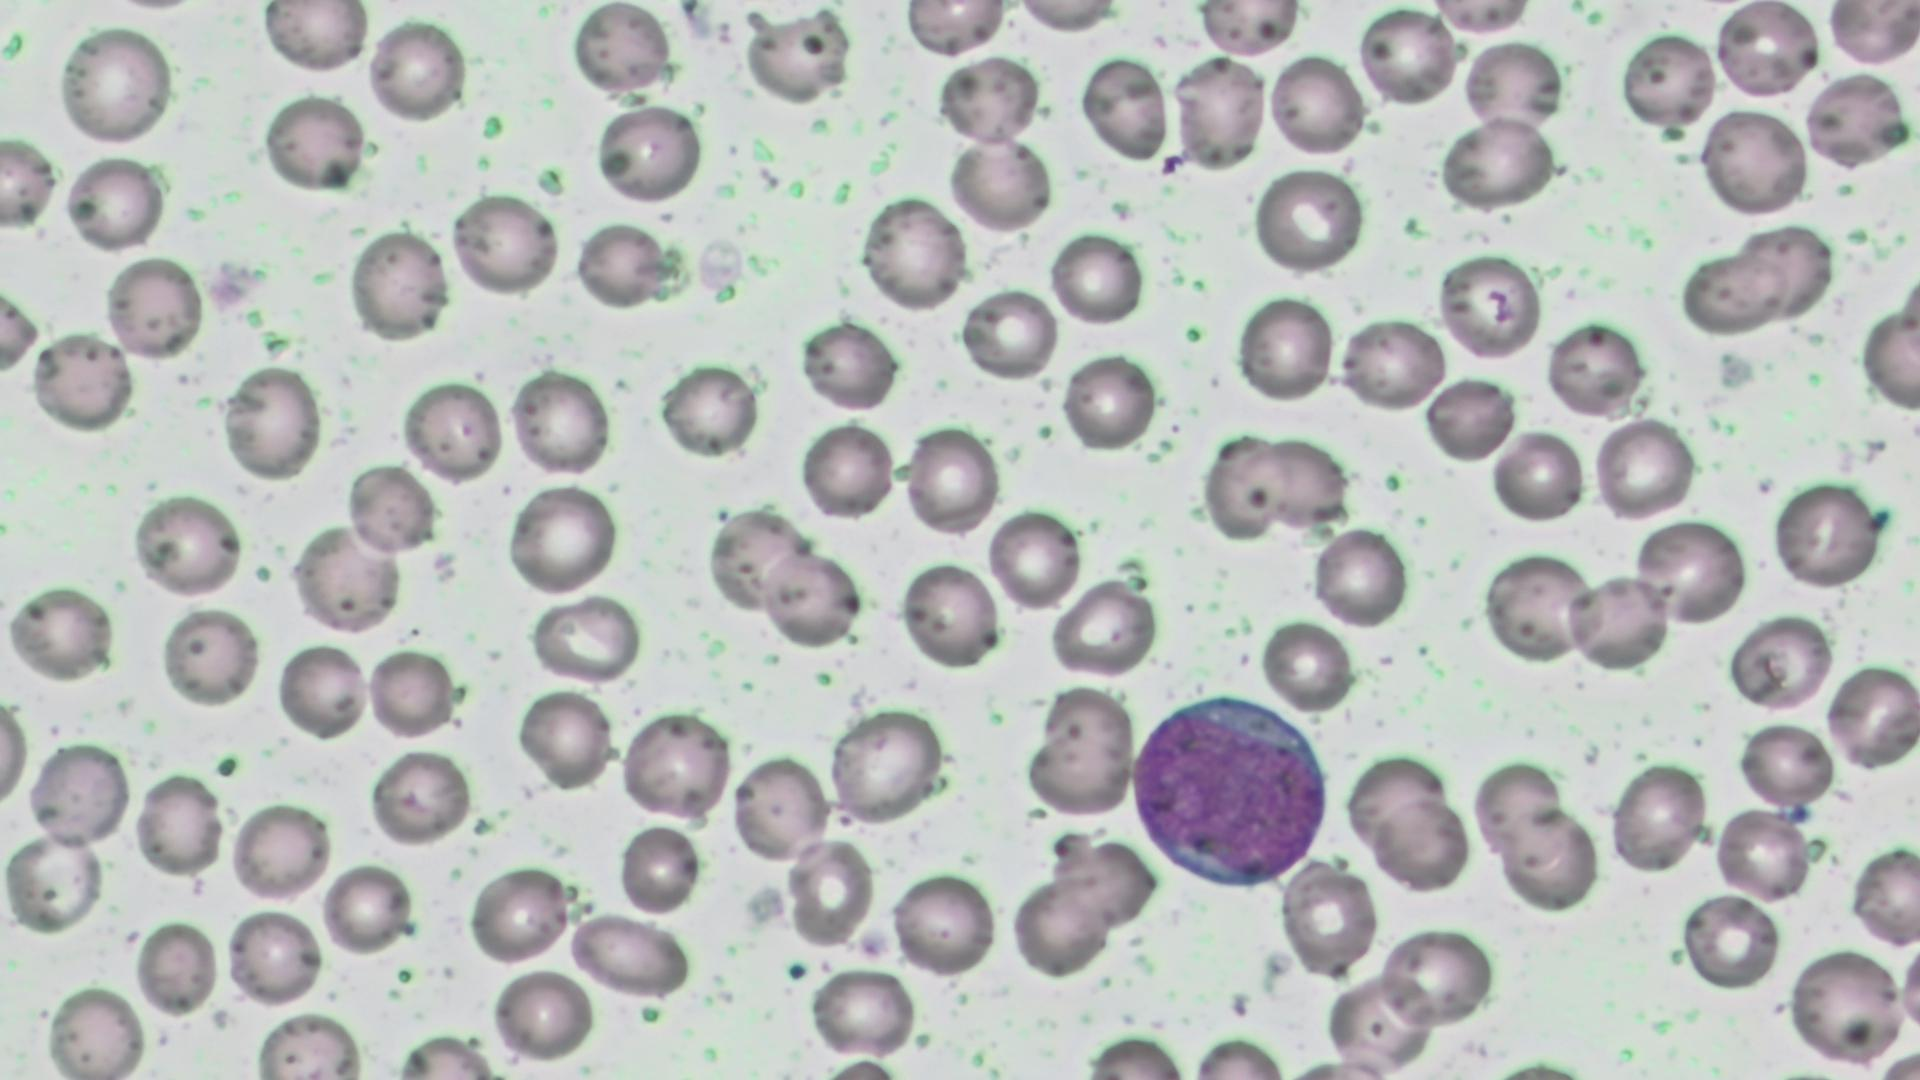Platelets: (742, 884, 793, 928), (855, 926, 895, 964), (258, 327, 295, 363), (212, 752, 243, 781), (1785, 803, 1815, 825)
RBC: (55, 20, 174, 152), (1785, 944, 1905, 1065), (620, 704, 733, 825), (858, 191, 971, 313), (829, 705, 943, 824), (218, 359, 324, 484), (1633, 514, 1749, 629), (1770, 476, 1884, 592), (504, 483, 620, 597), (1698, 104, 1812, 220), (887, 865, 1000, 982), (1480, 549, 1592, 663), (1250, 164, 1366, 274), (1435, 247, 1544, 364), (289, 522, 400, 636), (131, 491, 244, 601), (1278, 860, 1379, 982), (448, 189, 560, 299), (506, 364, 615, 479), (1379, 923, 1497, 1029), (902, 419, 1004, 541), (1234, 289, 1337, 407), (731, 746, 832, 866), (22, 736, 131, 848), (1590, 411, 1698, 524), (1321, 967, 1435, 1073), (897, 556, 1002, 671), (347, 225, 450, 343), (1048, 575, 1160, 682), (1676, 243, 1796, 342), (100, 255, 208, 363), (400, 376, 505, 487), (1172, 51, 1269, 173), (4, 582, 117, 684), (1797, 70, 1912, 171), (1267, 47, 1369, 162), (704, 500, 808, 611), (1023, 717, 1137, 819), (740, 4, 851, 107), (261, 90, 367, 196), (592, 102, 700, 206), (1436, 116, 1557, 208), (1607, 760, 1704, 876), (227, 798, 331, 905), (512, 684, 615, 793), (570, 910, 694, 1000), (944, 133, 1054, 235), (1336, 313, 1447, 413), (29, 326, 132, 433), (157, 603, 260, 709), (364, 15, 465, 123), (1567, 568, 1671, 673), (3, 828, 105, 934), (61, 152, 166, 255), (465, 862, 568, 968), (1730, 611, 1834, 713), (655, 357, 760, 460), (1498, 804, 1600, 910), (526, 592, 644, 683), (1059, 349, 1160, 454), (1358, 4, 1458, 109), (1713, 1, 1818, 102), (365, 746, 471, 847), (1824, 659, 1920, 769), (806, 965, 916, 1060), (795, 417, 894, 522), (1309, 526, 1408, 632), (986, 504, 1083, 612), (758, 546, 860, 647), (1680, 890, 1782, 992), (1251, 431, 1352, 533), (489, 967, 593, 1064), (132, 770, 224, 880), (1079, 51, 1168, 164), (571, 0, 673, 99), (222, 905, 320, 1006), (45, 981, 149, 1077), (934, 51, 1039, 146), (1545, 316, 1644, 417), (1007, 878, 1106, 978), (1367, 793, 1468, 891), (1712, 804, 1811, 905), (1460, 38, 1563, 135), (1617, 29, 1713, 132), (274, 640, 371, 742), (785, 837, 876, 945), (1469, 756, 1563, 860), (1199, 430, 1286, 541), (795, 316, 897, 411), (1048, 229, 1145, 327), (1489, 427, 1586, 524), (961, 285, 1058, 380), (1262, 617, 1356, 713), (131, 915, 218, 1017), (365, 645, 458, 740), (1422, 375, 1516, 465), (572, 218, 667, 309), (319, 861, 410, 956), (1738, 717, 1834, 806), (258, 3, 369, 79), (344, 460, 435, 551), (615, 822, 702, 916), (251, 1007, 368, 1077), (1850, 839, 1917, 947), (1859, 303, 1920, 415), (1824, 3, 1920, 66), (1196, 0, 1300, 57), (0, 133, 57, 235), (899, 1, 1006, 54), (0, 277, 42, 388), (0, 691, 30, 820), (1423, 1, 1536, 36), (1011, 0, 1124, 34)
WBC: (1126, 691, 1336, 890)
